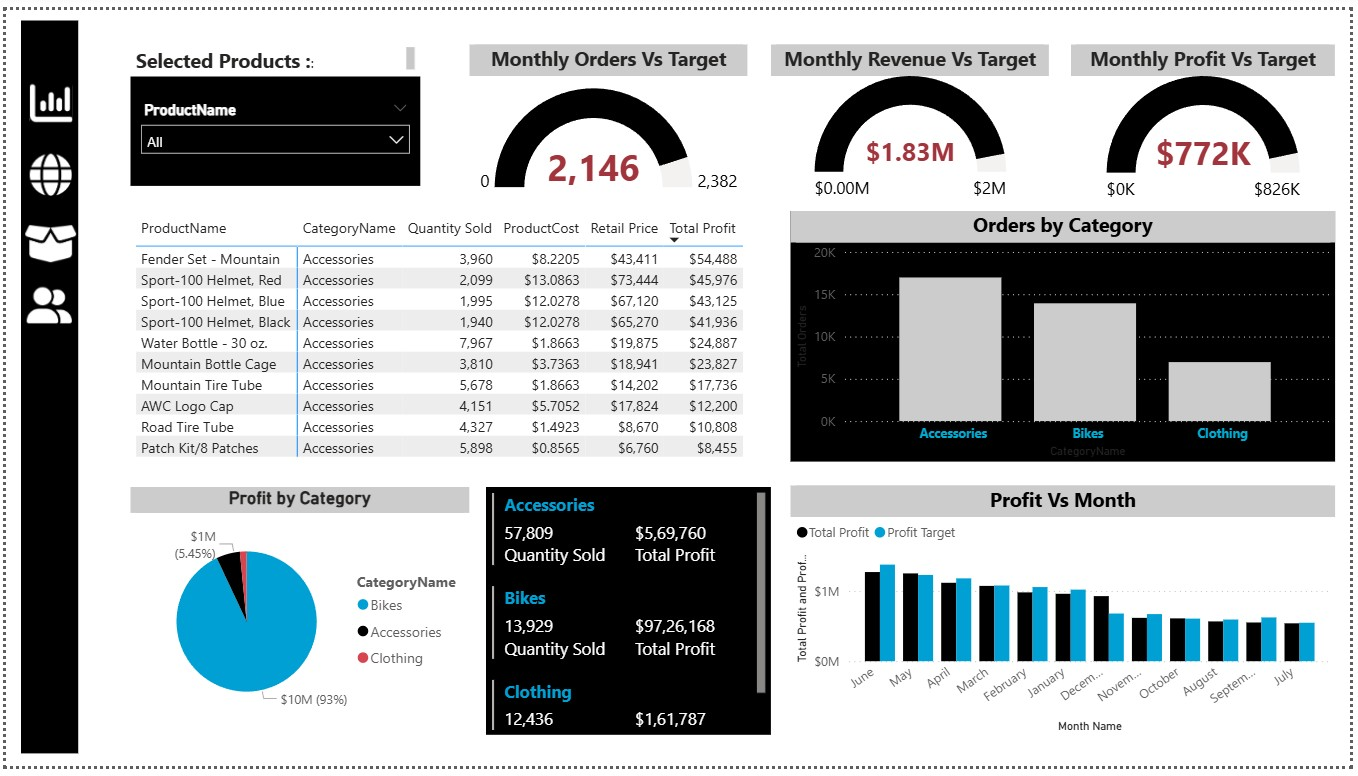

What the dashboard file says about the page in this screenshot:
{"tool":"powerbi","page":{"name":"Product Details","canvas":[1280,720],"ordinal":2},"visuals":[{"type":"shape","box":[13.6,10.6,54.5,698],"z":0},{"type":"gauge","title":"Monthly Orders Vs Target","fields":{"Y":["Measure Table.Total Orders"],"MaxValue":["Measure Table.Order Target"]},"box":[441.4,33.1,264.8,157.2],"z":1000},{"type":"actionButton","box":[19.2,64.4,73.5,49],"z":1000,"group":"g1"},{"type":"textbox","box":[118.6,63.4,275.9,104.8],"z":2000},{"type":"actionButton","box":[14.2,194.7,99.2,56.5],"z":2000,"group":"g1"},{"type":"textbox","box":[118.6,30.3,275.9,33.1],"z":3000},{"type":"actionButton","box":[15.5,256.5,61.9,51],"z":3000,"group":"g1"},{"type":"gauge","title":"Monthly Revenue Vs Target","fields":{"Y":["Measure Table.Total Revenue"],"MaxValue":["Measure Table.Revenue Target"]},"box":[728.3,33.1,264.8,157.2],"z":4000},{"type":"actionButton","box":[18.1,133.2,61.9,48.2],"z":4000,"group":"g1"},{"type":"gauge","title":"Monthly Profit Vs Target","fields":{"Y":["Measure Table.Total Profit"],"MaxValue":["Measure Table.Profit Target"]},"box":[1014.7,32.4,251.1,158],"z":5000},{"type":"slicer","fields":{"Values":["Product Lookup.ProductName"]},"box":[118.6,81.4,275.7,110],"z":6000},{"type":"pivotTable","fields":{"Rows":["Product Lookup.ProductName"],"Values":["Min(Product Categories Lookup.CategoryName)","Measure Table.Quantity Sold","Sum(Product Lookup.ProductCost)","Sum(Sales Data.Retail Price)","Measure Table.Total Profit"]},"box":[118.8,191.2,610,241.2],"z":7000},{"type":"clusteredColumnChart","title":"Orders by Category","fields":{"Category":["Product Categories Lookup.CategoryName"],"Y":["Measure Table.Total Orders"]},"box":[747.5,191.2,518.8,238.8],"z":8000},{"type":"pieChart","title":"Profit by Category","fields":{"Category":["Product Categories Lookup.CategoryName"],"Y":["Measure Table.Total Profit"]},"box":[118.8,453.8,322.5,236.2],"z":9000},{"type":"lineClusteredColumnComboChart","title":"Profit Vs Month ","fields":{"Category":["Calendar Lookup.Month Name"],"Y":["Measure Table.Total Profit","Measure Table.Profit Target"]},"box":[747.5,452.5,518.8,240],"z":10000},{"type":"multiRowCard","fields":{"Values":["Product Categories Lookup.CategoryName","Measure Table.Quantity Sold","Measure Table.Total Profit"]},"box":[457.5,453.8,271.2,236.2],"z":11000},{"type":"group","id":"g1","title":"Buttons","box":[14.2,64.4,99.2,243.5],"z":12000}]}

Visuals, with their boxes in screenshot pixels (x1, y1, x2, y2), scaled from the page's 1280x720 canvas onto the 1358x776 screenshot:
shape: (x1=14, y1=11, x2=72, y2=764)
"Monthly Orders Vs Target" gauge: (x1=468, y1=36, x2=749, y2=205)
actionButton: (x1=20, y1=69, x2=98, y2=122)
textbox: (x1=126, y1=68, x2=419, y2=181)
actionButton: (x1=15, y1=210, x2=120, y2=271)
textbox: (x1=126, y1=33, x2=419, y2=68)
actionButton: (x1=16, y1=276, x2=82, y2=331)
"Monthly Revenue Vs Target" gauge: (x1=773, y1=36, x2=1054, y2=205)
actionButton: (x1=19, y1=144, x2=85, y2=196)
"Monthly Profit Vs Target" gauge: (x1=1077, y1=35, x2=1343, y2=205)
slicer - Product Lookup.ProductName: (x1=126, y1=88, x2=418, y2=206)
pivotTable - Product Lookup.ProductName x Min(Product Categories Lookup.CategoryName): (x1=126, y1=206, x2=773, y2=466)
"Orders by Category" clusteredColumnChart: (x1=793, y1=206, x2=1343, y2=463)
"Profit by Category" pieChart: (x1=126, y1=489, x2=468, y2=744)
"Profit Vs Month " lineClusteredColumnComboChart: (x1=793, y1=488, x2=1343, y2=746)
multiRowCard - Product Categories Lookup.CategoryName x Measure Table.Quantity Sold: (x1=485, y1=489, x2=773, y2=744)
"Buttons" group: (x1=15, y1=69, x2=120, y2=332)
